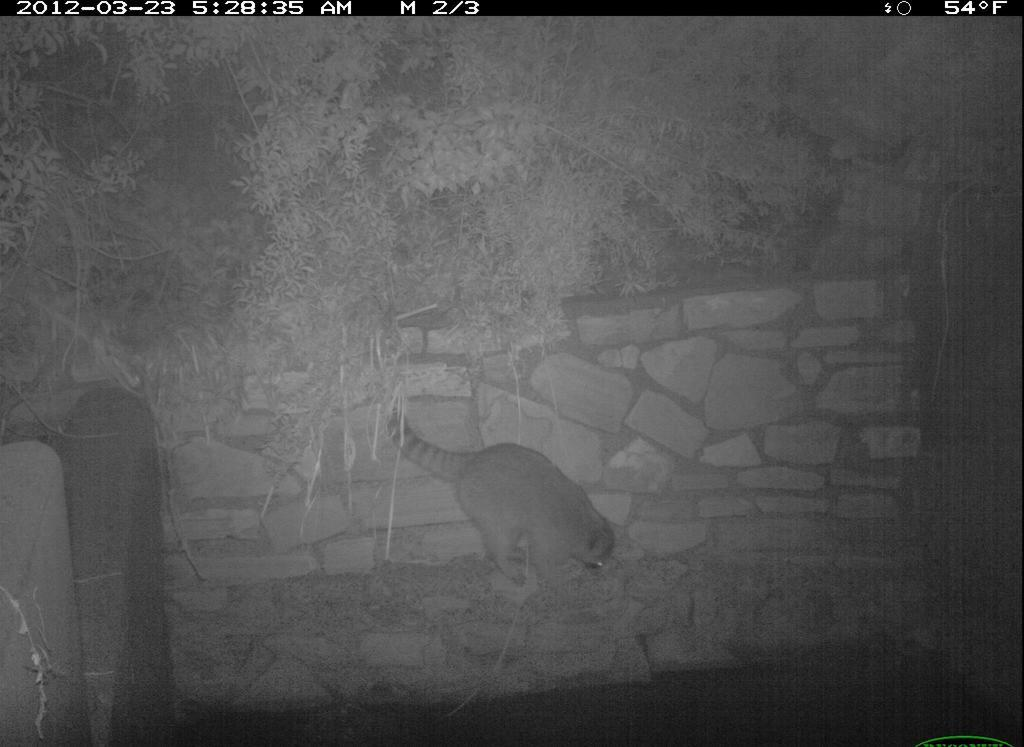raccoon: (374, 387, 621, 588)
